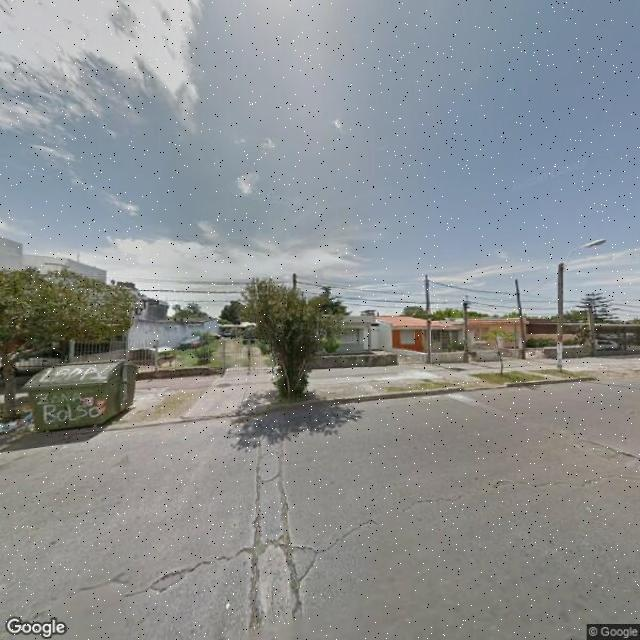garbage container: (15, 353, 153, 452)
